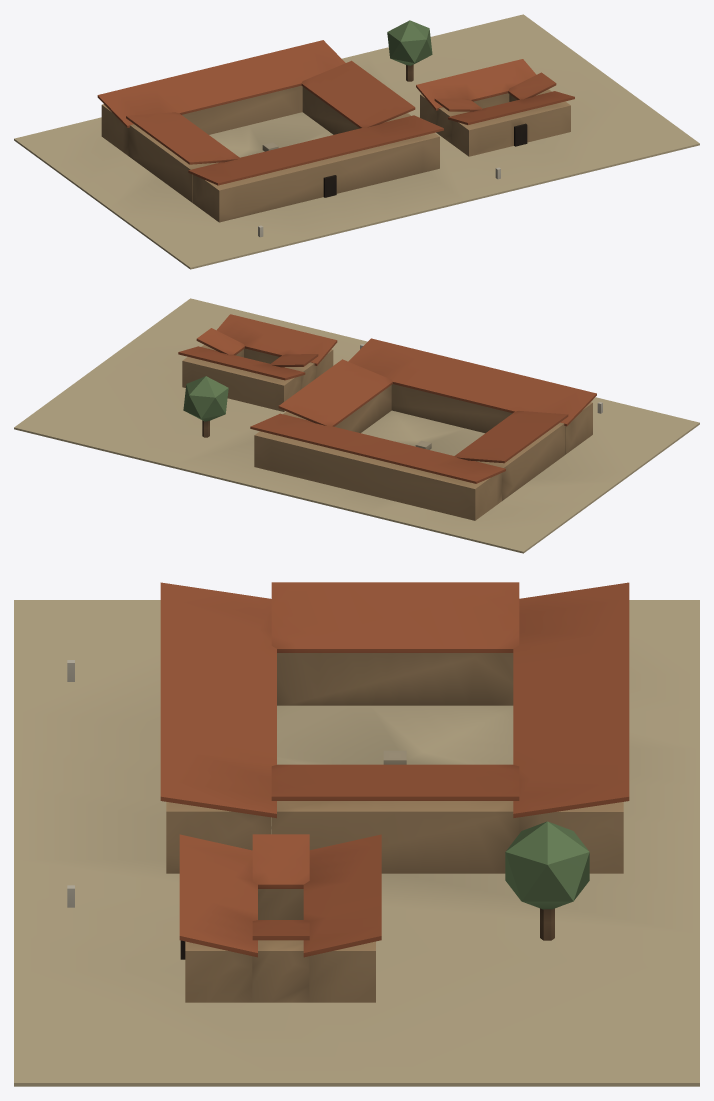
Rendered from building-f.glb.
The picture shows the model from 3 angles, top to bottom: view 1: azimuth 30°, elevation 25°; view 2: azimuth 150°, elevation 25°; view 3: azimuth 270°, elevation 25°; orthographic projection. The views are drawn at different scales.
Visible parts, largest first — view 1: p1_house, p0_ground; view 2: p1_house, p0_ground; view 3: p0_ground, p1_house.
Part boxes in pixels (box(x1,y1,x2,y2)): p1_house: box(97, 20, 574, 237); p0_ground: box(14, 14, 699, 269); p1_house: box(178, 314, 602, 520); p0_ground: box(14, 298, 699, 553); p0_ground: box(14, 600, 699, 1086); p1_house: box(67, 582, 629, 1002).
Size of the model in its own units: 60 by 6.96 by 36.
